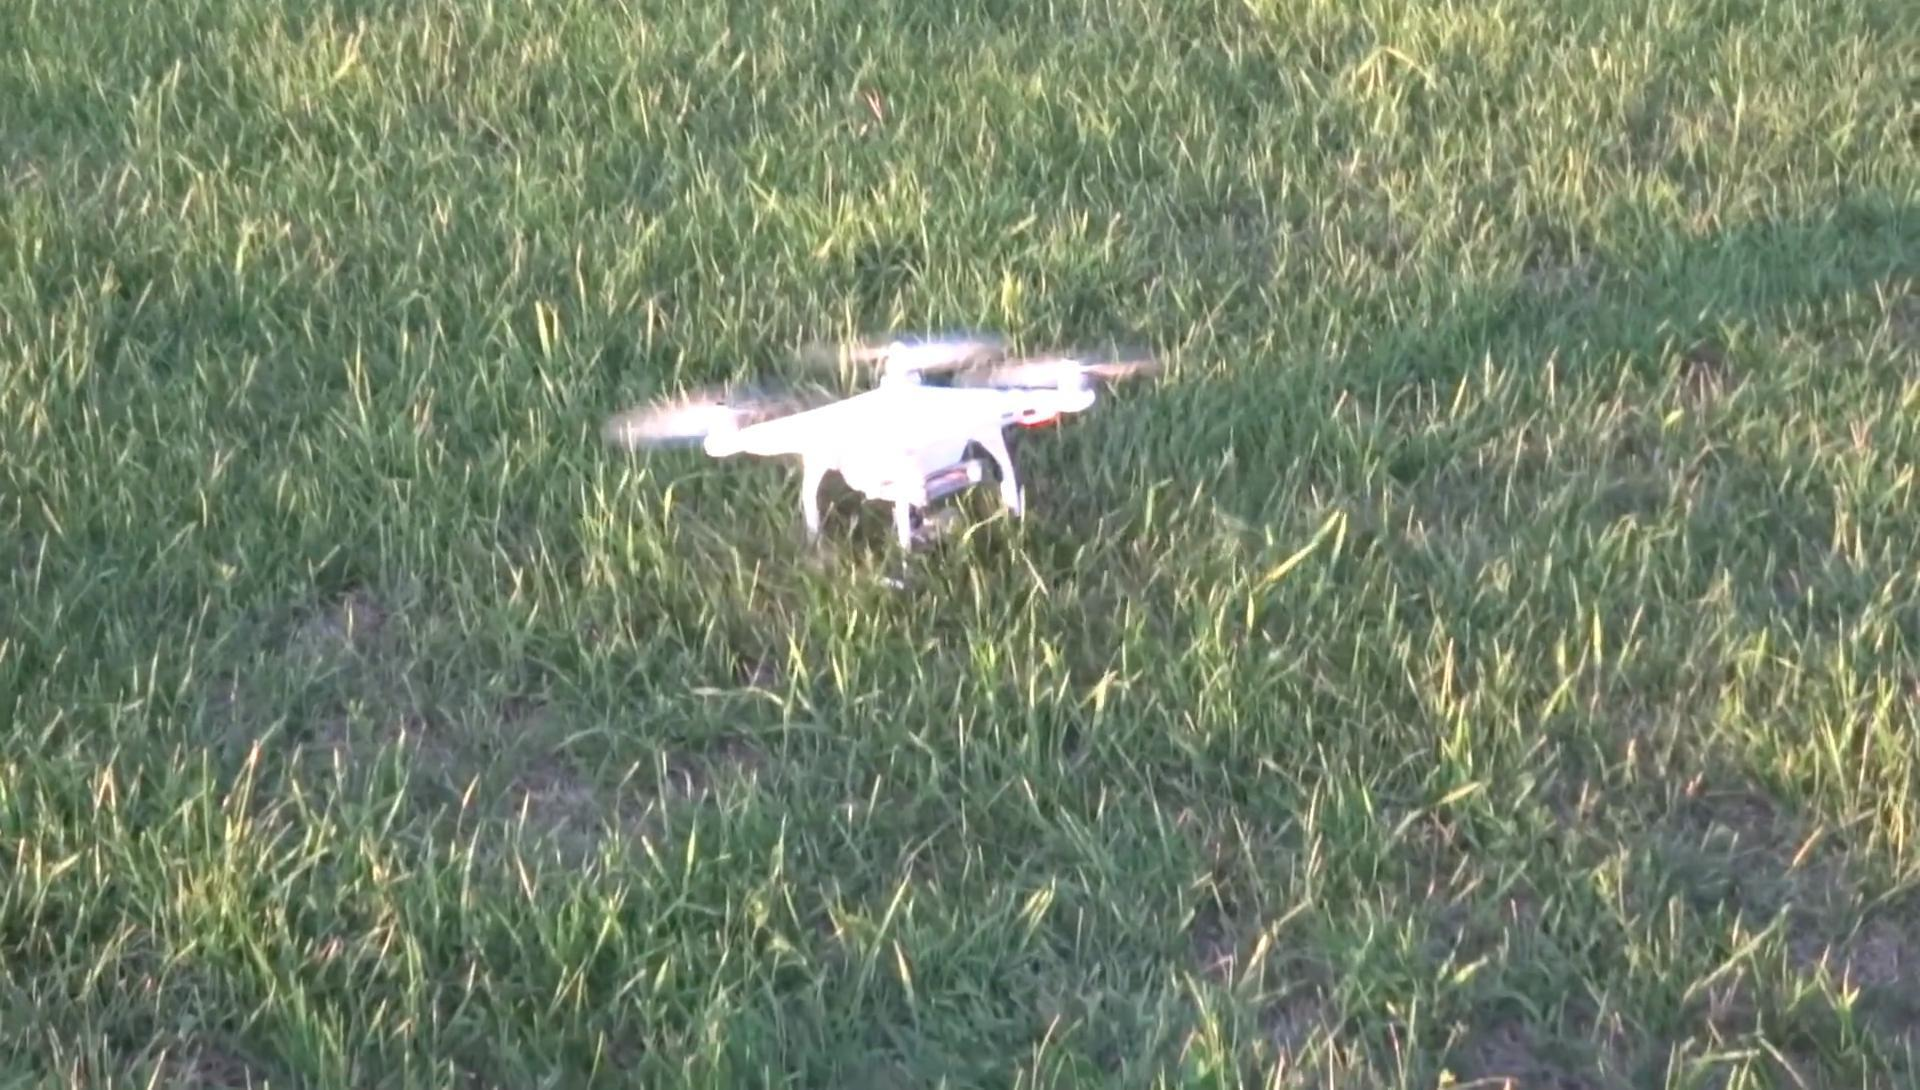drone: (615, 327, 1154, 555)
